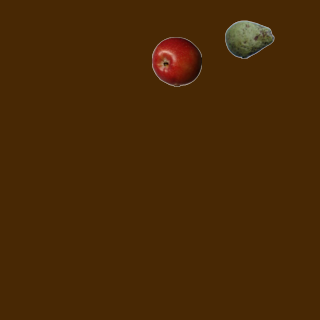Apple Braeburn: (151, 36, 201, 86)
Pear Stone: (224, 14, 274, 64)
